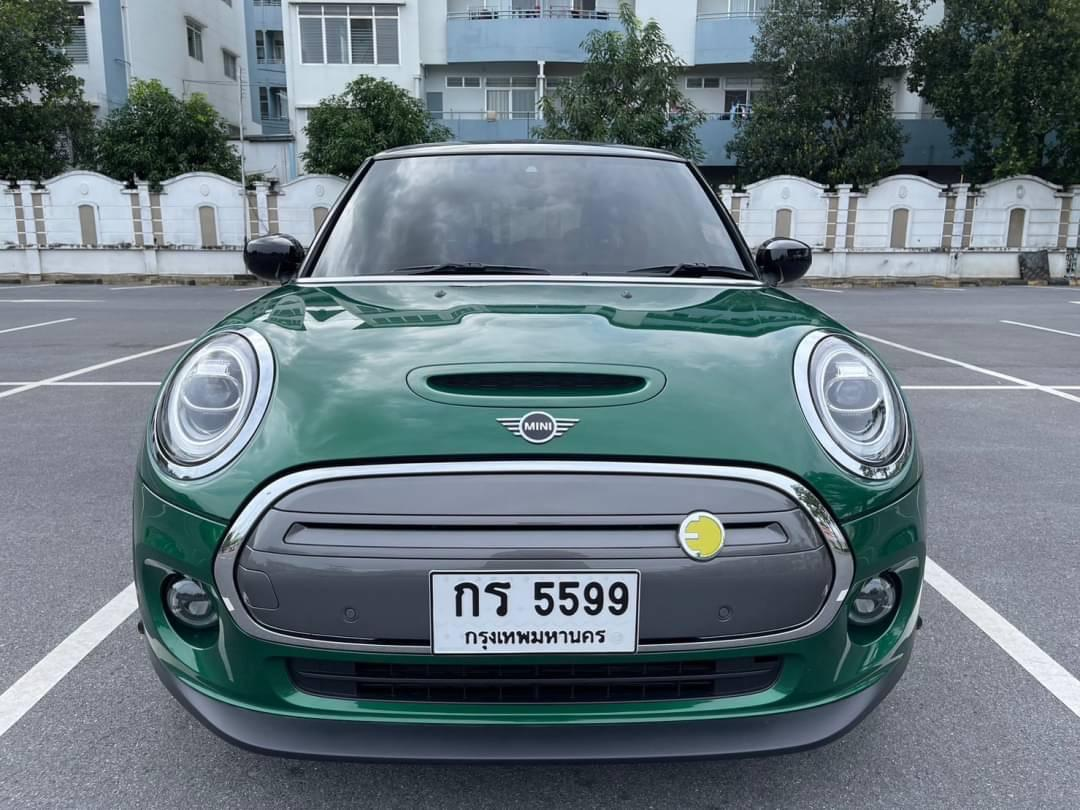license-plate: (428, 568, 639, 656)
